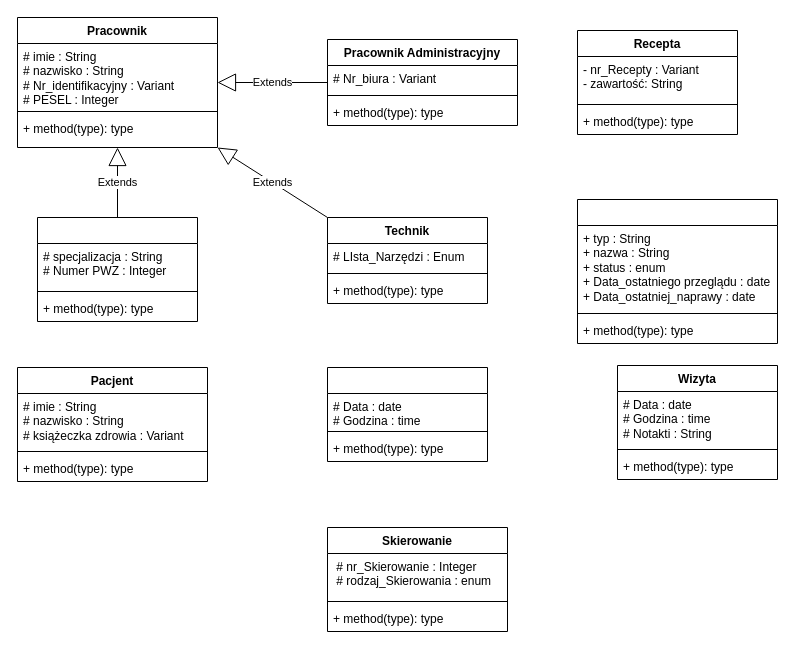
Some shapes in this 795 by 652 pixel diagram are drawn without their labels. The box of each missing label's shape, as (x1, y1, x2, y2) in pixels:
Lekarz: (36, 216, 198, 322)
Rejestracja: (326, 366, 488, 462)
Wyposażenie: (576, 198, 778, 344)
